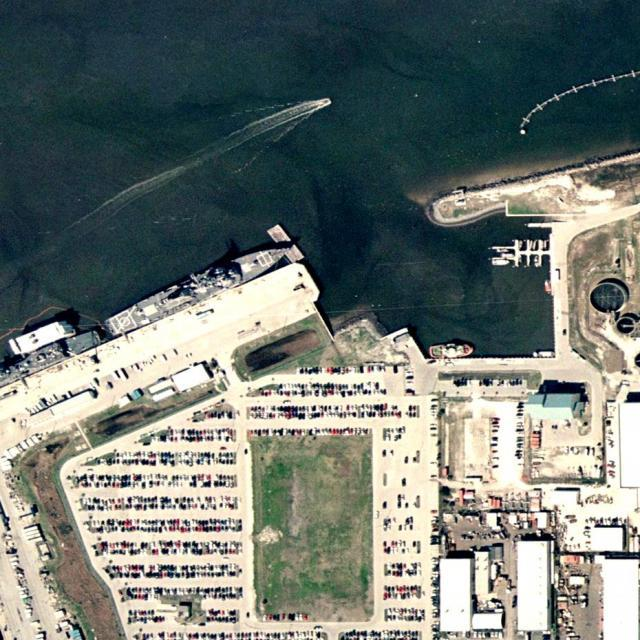Destroyer: (105, 238, 295, 337)
Hovercraft: (429, 343, 473, 357)
